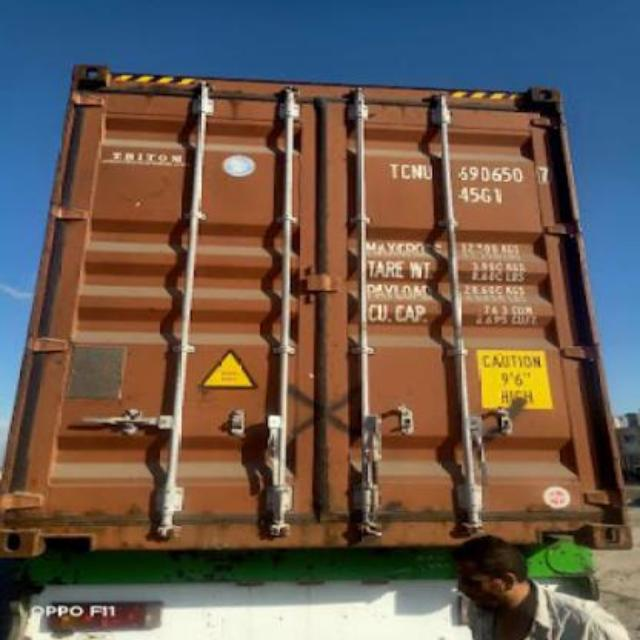0: (512, 162, 524, 188), (478, 162, 490, 186)
5: (502, 158, 512, 186)
6: (450, 160, 470, 183), (488, 156, 502, 184)
7: (536, 162, 550, 186)
9: (468, 159, 478, 185)
C: (398, 160, 410, 182)
N: (408, 160, 422, 183)
T: (384, 159, 400, 183)
U: (420, 159, 436, 183)
